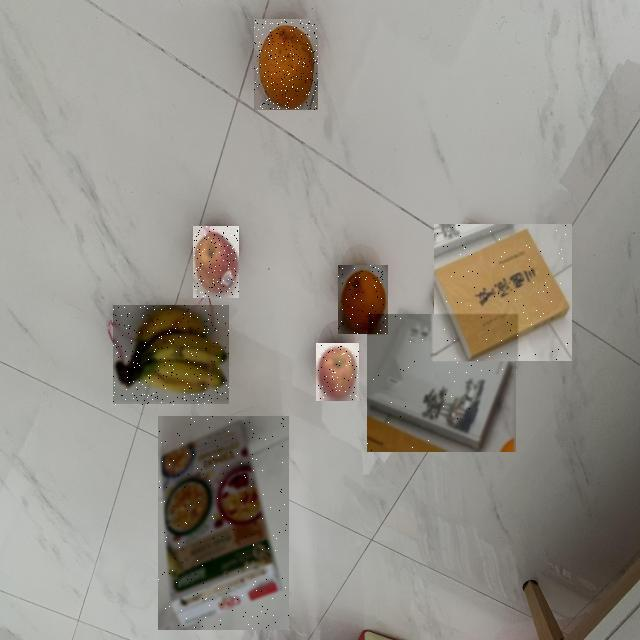Apple: (193, 226, 239, 298), (316, 343, 359, 401)
Banana: (113, 306, 229, 406)
Book: (368, 314, 518, 452), (434, 224, 572, 361)
Cereal: (158, 416, 289, 630)
Orange: (254, 19, 318, 110), (338, 265, 388, 334)
